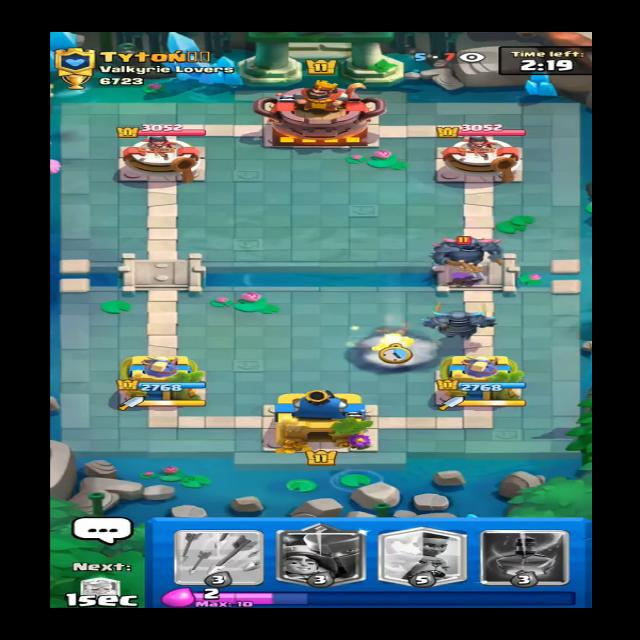Pekka: (429, 232, 510, 272)
